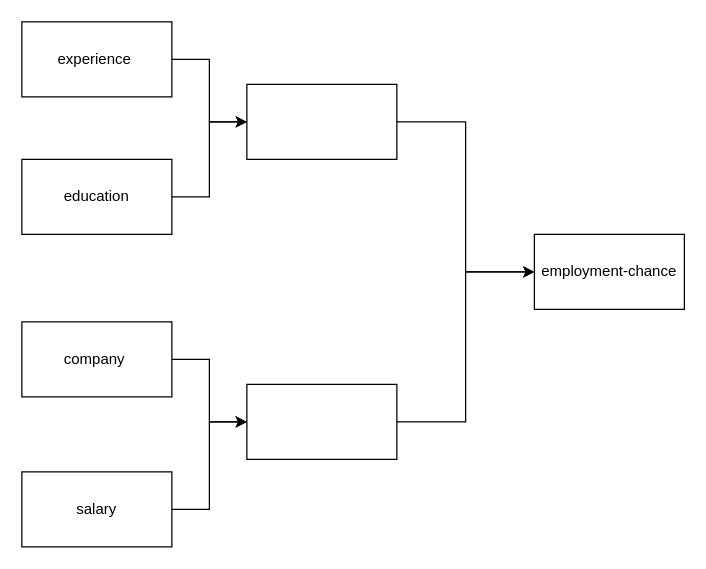
Some shapes in this 706 by 569 pixel diagram are drawn without their labels. The centre of each missing label's shape, as x and y in pixels:
"competition" goes at (321,421).
"specialist-level" goes at (321,121).
